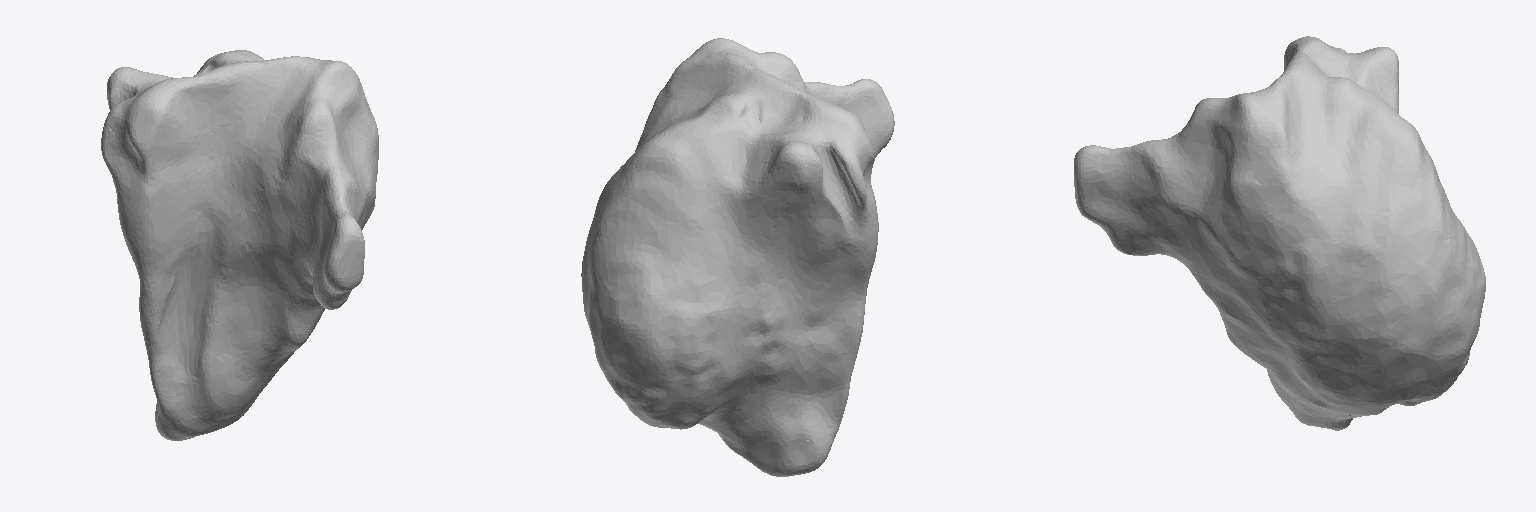
The picture shows the model from 3 angles: view 1: azimuth 30°, elevation 25°; view 2: azimuth 150°, elevation 25°; view 3: azimuth 270°, elevation 25°; orthographic projection.
Visible parts, largest first — view 1: Polygonal_Model_2_Triangles_0; view 2: Polygonal_Model_2_Triangles_0; view 3: Polygonal_Model_2_Triangles_0.
Part boxes in pixels (x1,y1,x2,y2): Polygonal_Model_2_Triangles_0: (101,50,378,440); Polygonal_Model_2_Triangles_0: (581,38,894,476); Polygonal_Model_2_Triangles_0: (1074,36,1485,430).
Size of the model in its own units: 2.02 by 2.93 by 2.87.